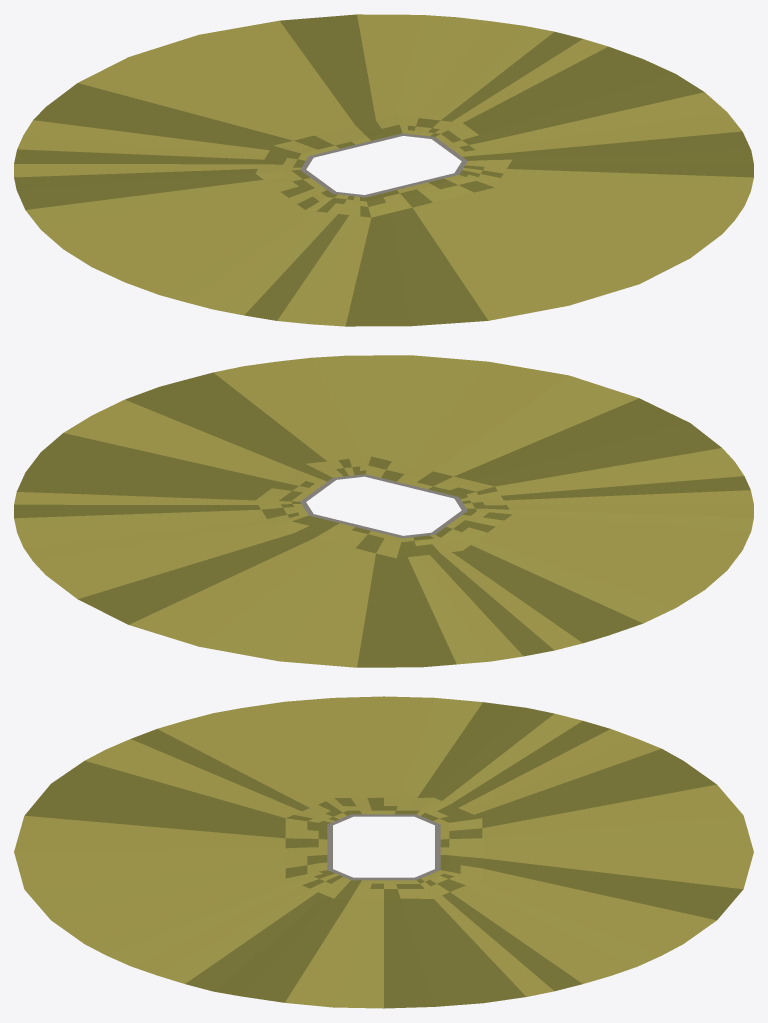
The model's file is SM_ProvRim.fbx.
3 renders of one model, top to bottom at view 1: azimuth 30°, elevation 25°; view 2: azimuth 150°, elevation 25°; view 3: azimuth 270°, elevation 25°, orthographic.
Parts seen in each view (by area): view 1: SM_ProvRim; view 2: SM_ProvRim; view 3: SM_ProvRim.
Boxes of the visible parts, bbox=[...] form: SM_ProvRim: bbox=[14, 14, 753, 326]; SM_ProvRim: bbox=[14, 355, 753, 667]; SM_ProvRim: bbox=[14, 696, 753, 1008].
Bounding box in the file's own units: 520 × 520 × 4.5.
